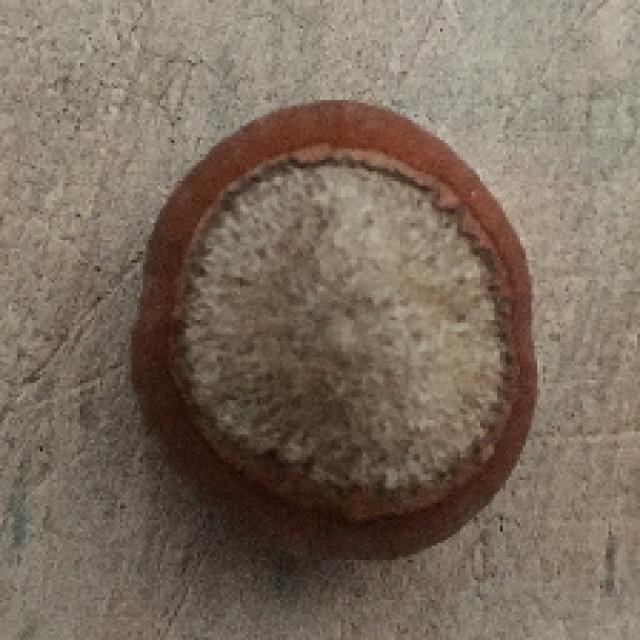qualityHazelnut: (140, 98, 538, 566)
